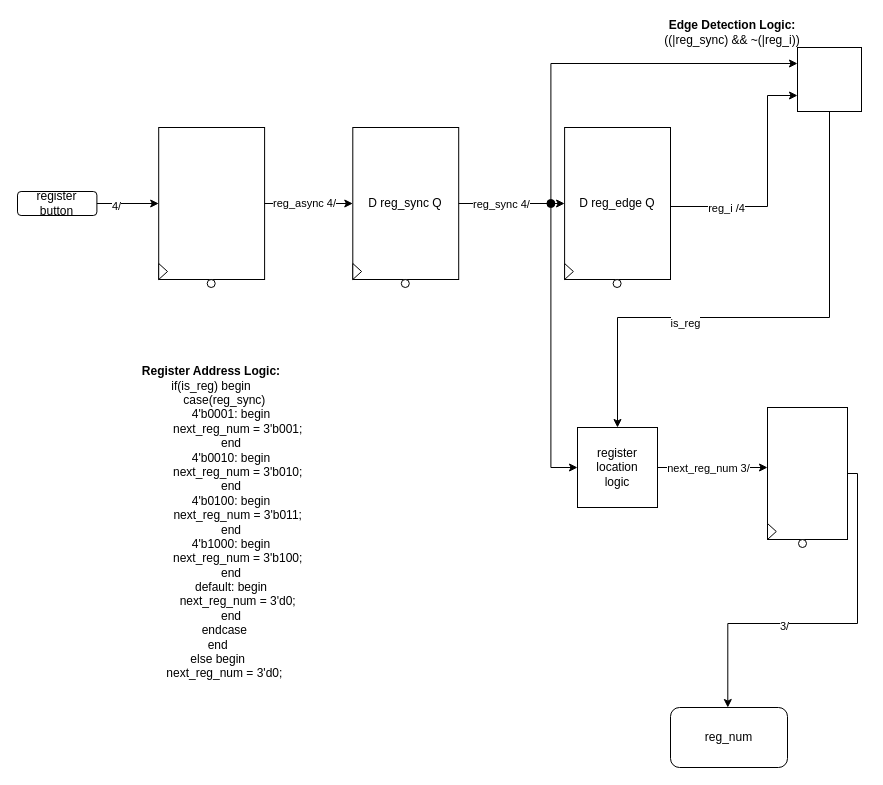
Some shapes in this 883 by 785 pixel diagram are drawn without their labels. The shapes that lost their labels are listed below. From the top down, each one's box as (x1, y1, x2, y2) in pixels, then its label:
(796, 46, 862, 112): Edge Detection Logic
(158, 126, 265, 280): D reg_async Q
(766, 406, 848, 540): D reg_num Q
